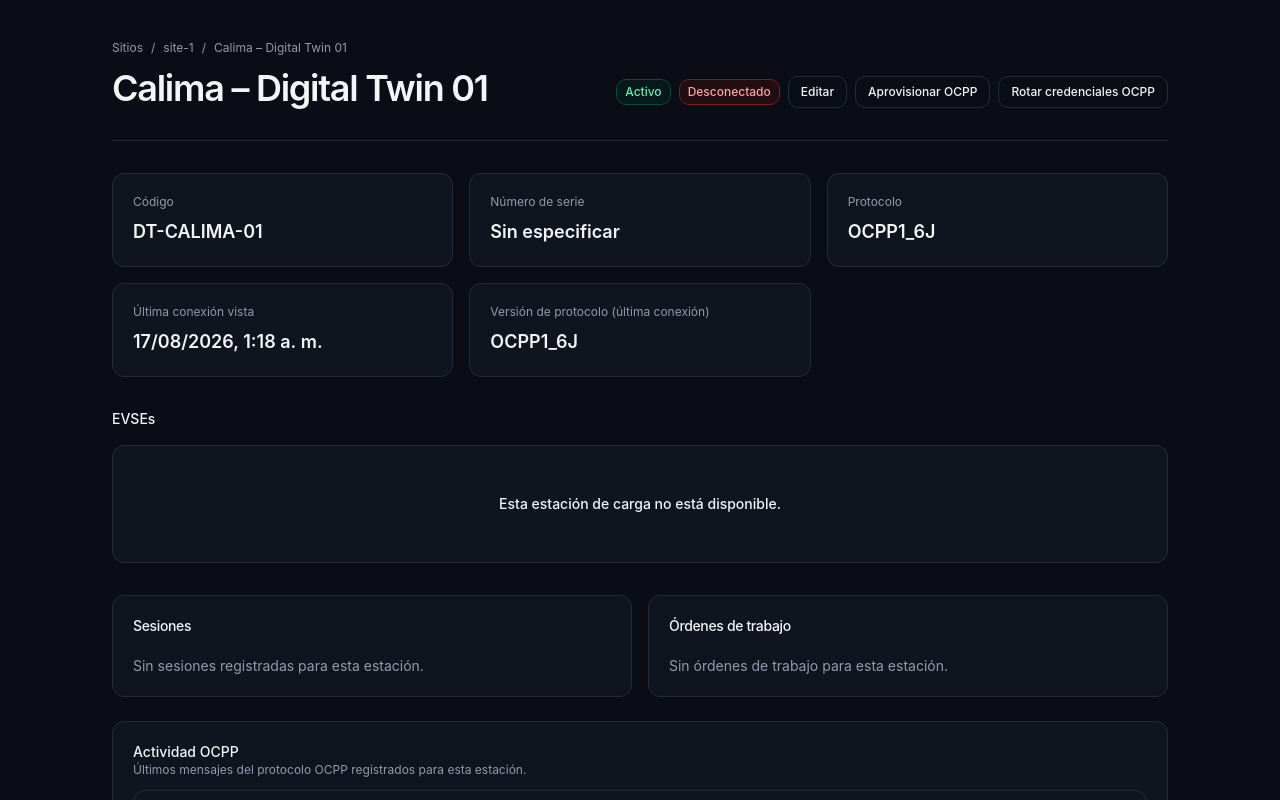
ChargingStationDetailPage — credential rotation flow › represents a 403 honestly, using the backend message
Click the button "Rotar credenciales OCPP" at (1083, 92), box [998,76,1168,108]
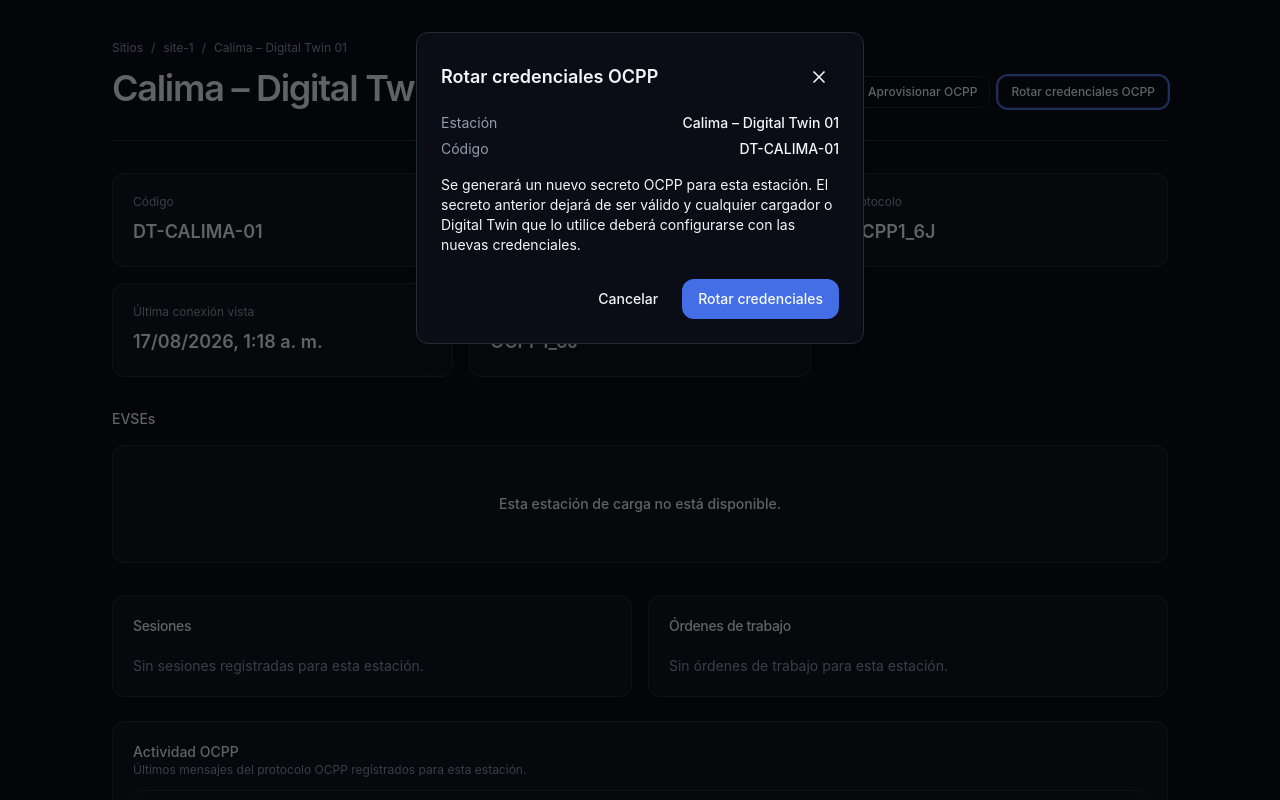
Click the button "Rotar credenciales" at (761, 299), box [682,279,839,319]
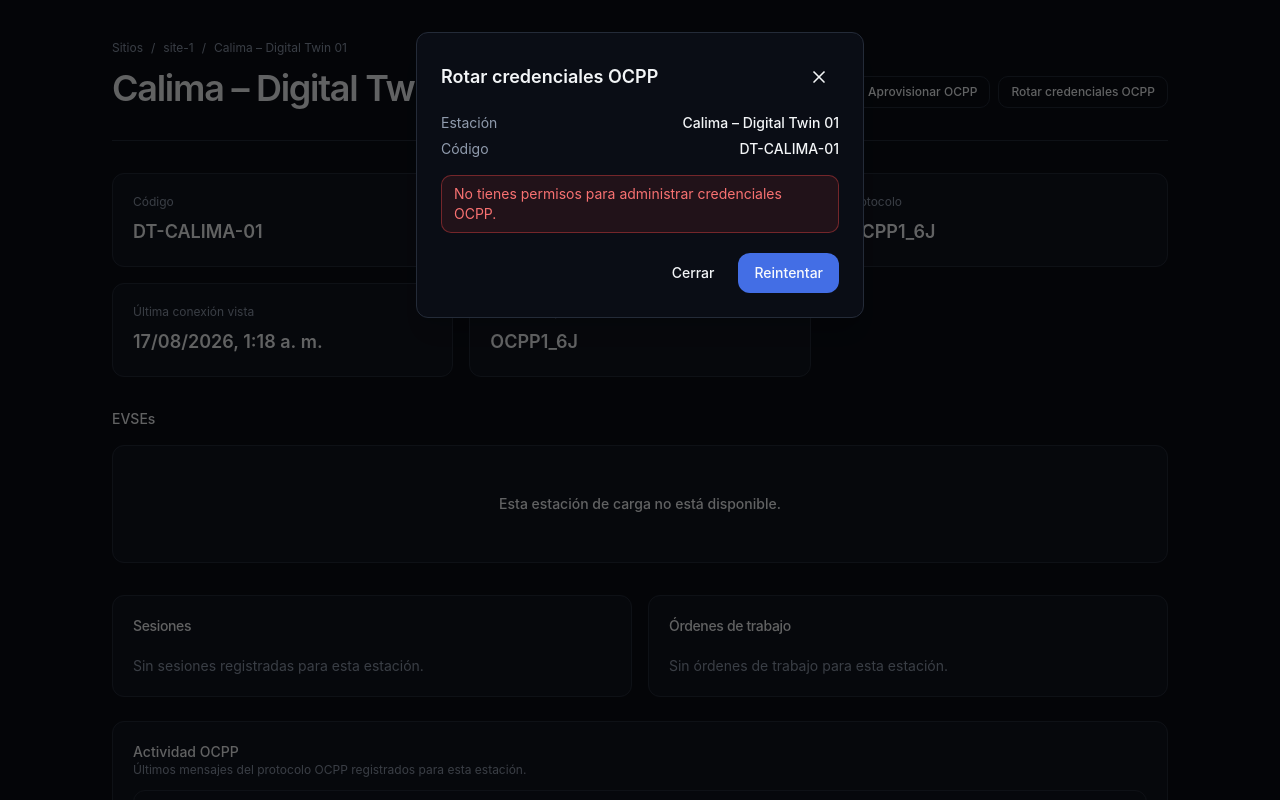
Expected: the text "No tienes permisos para administrar credenciales OCPP." is shown, [441,175,839,233]
